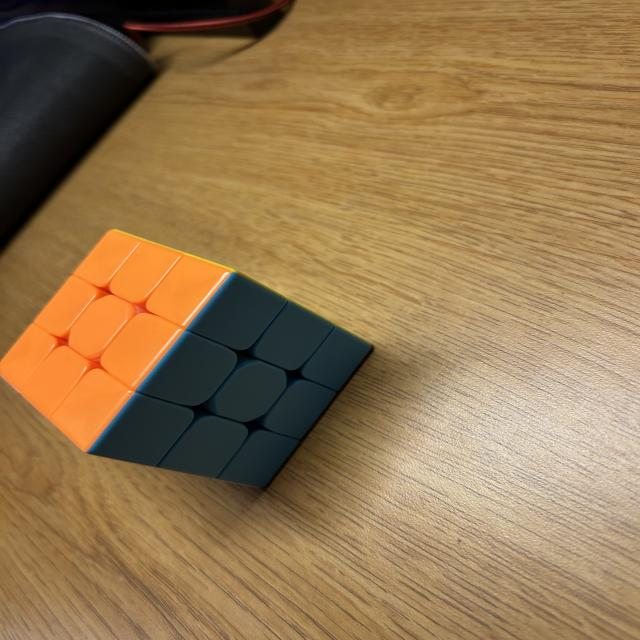Rubiks Cube: (0, 229, 372, 486)
